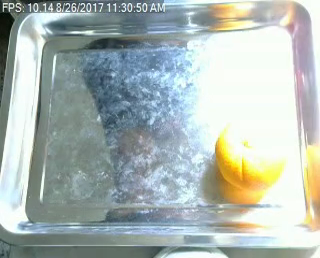Orange: (215, 120, 286, 190)
